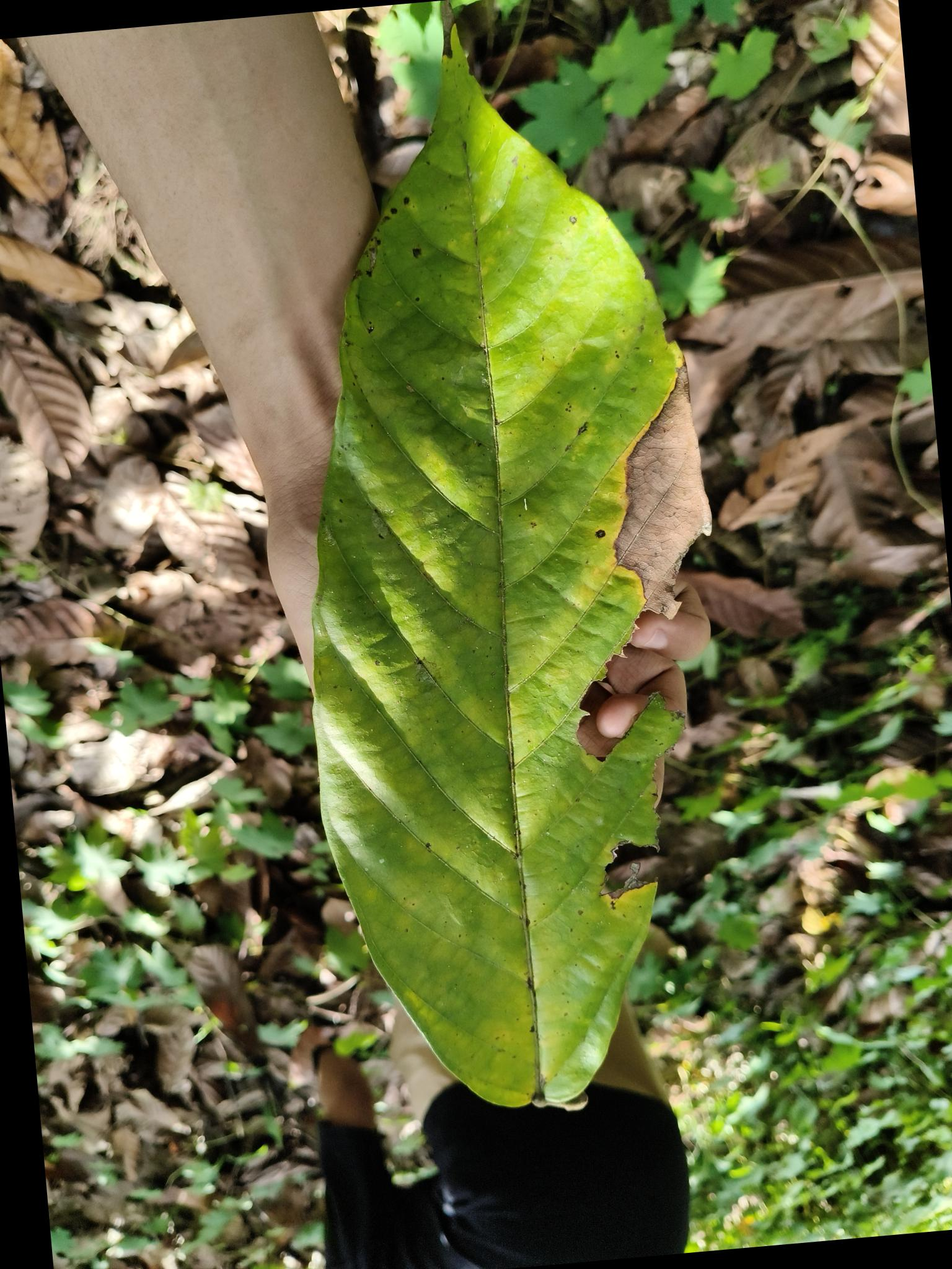Fosforo: (312, 16, 707, 1104)
